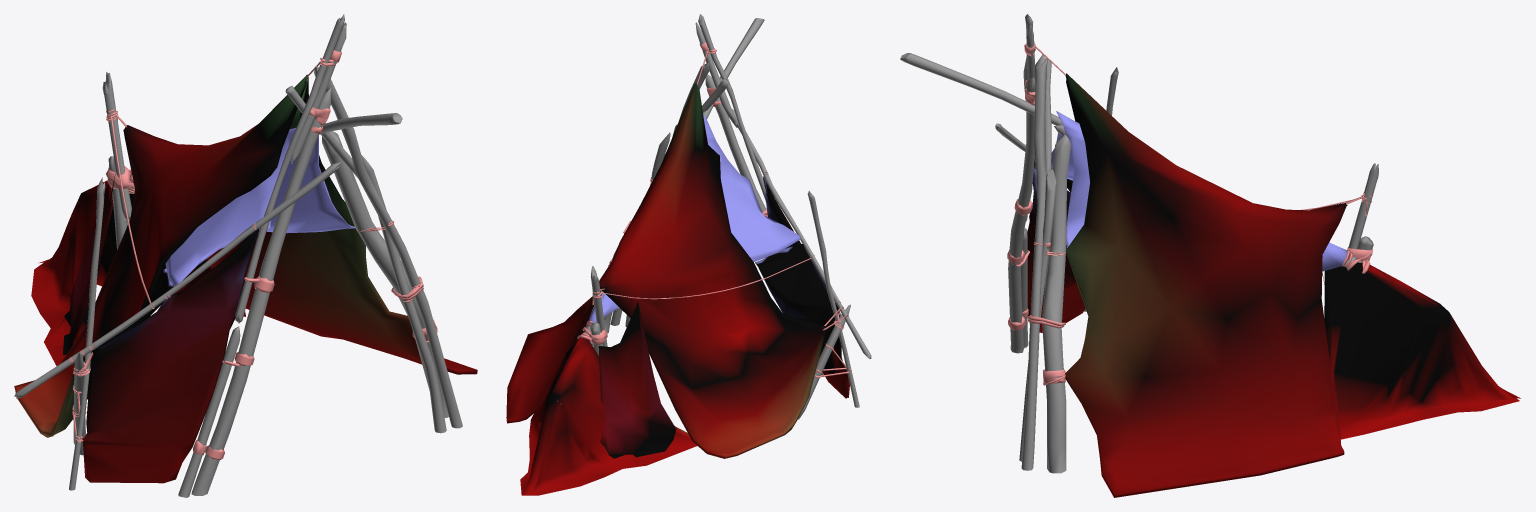
File: wooden_village_tent_base_B_01.gltf
The picture shows the model from 3 angles, left to right: view 1: azimuth 30°, elevation 25°; view 2: azimuth 150°, elevation 25°; view 3: azimuth 270°, elevation 25°; orthographic projection. The views are drawn at different scales.
Parts seen in each view (by area): view 1: wooden_village_tent_base_B_01; view 2: wooden_village_tent_base_B_01; view 3: wooden_village_tent_base_B_01.
Boxes of the visible parts, x1,y1,x2,y2 form: wooden_village_tent_base_B_01: (14, 14, 477, 497); wooden_village_tent_base_B_01: (506, 14, 871, 495); wooden_village_tent_base_B_01: (900, 14, 1520, 497).
Bounding box in the file's own units: 6.15 × 5.68 × 7.83.
